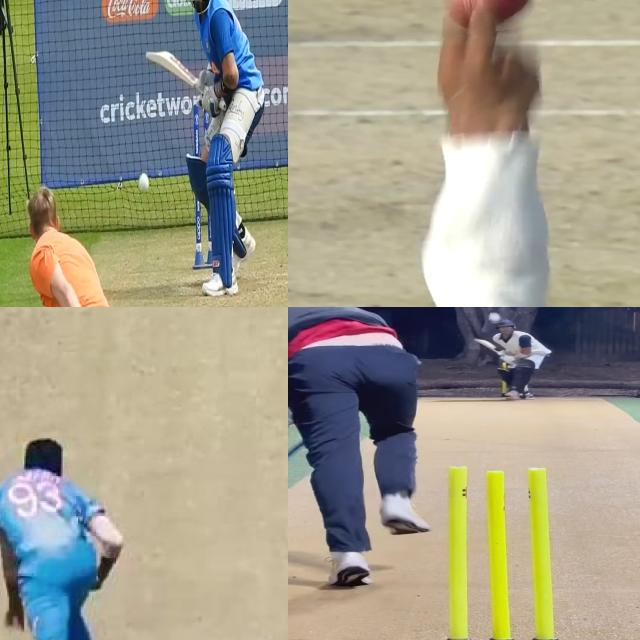Cricket ball: (442, 0, 541, 36), (137, 170, 151, 198), (485, 311, 502, 323)
Stumps: (425, 463, 582, 640)
